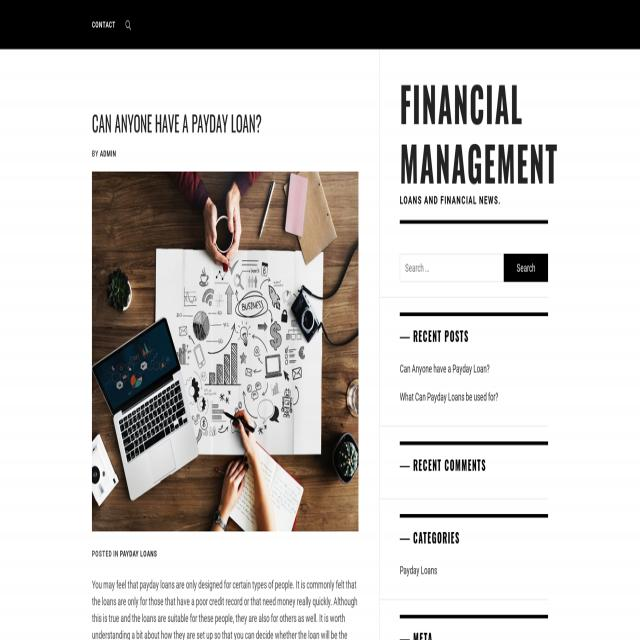button: (92, 173, 358, 532), (504, 254, 548, 282), (125, 20, 131, 30)
field: (400, 254, 504, 282)
